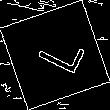L_NW: (26, 30, 84, 80)
